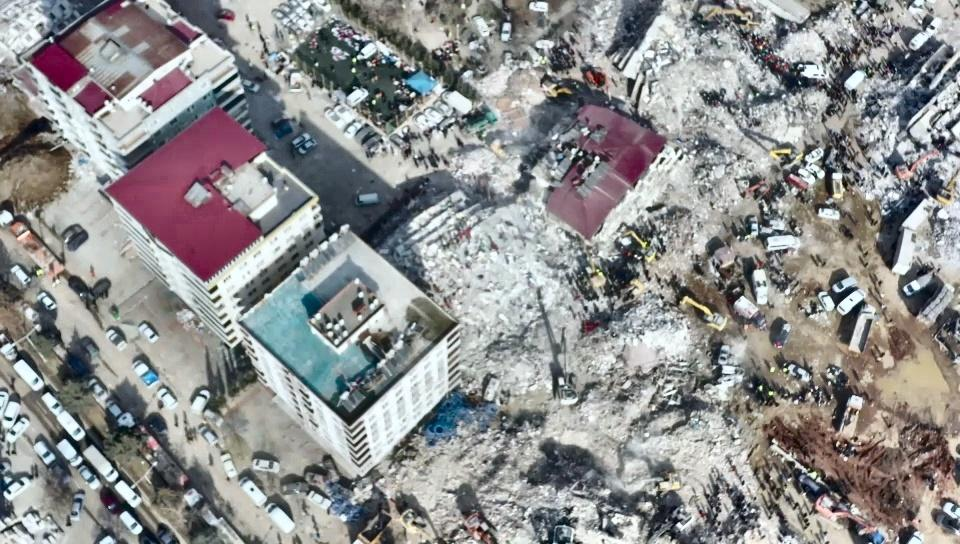kapali: (347, 155, 783, 480)
